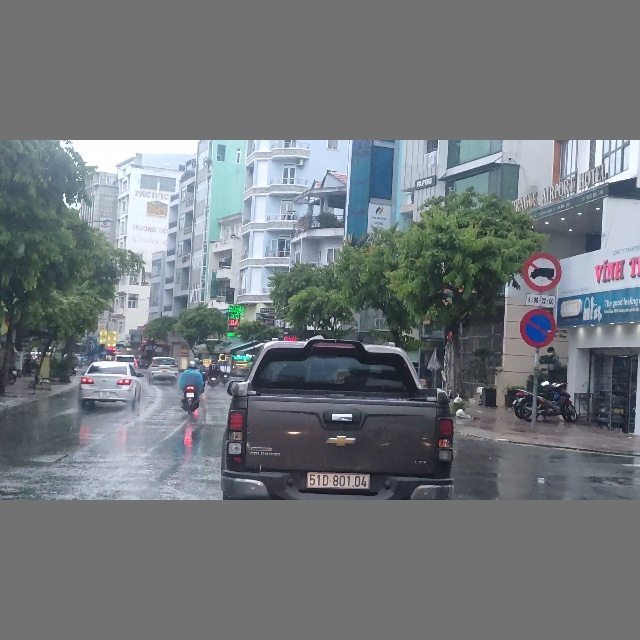P.106a*Xe tai: (522, 253, 562, 292)
P.131a: (519, 308, 556, 347)
